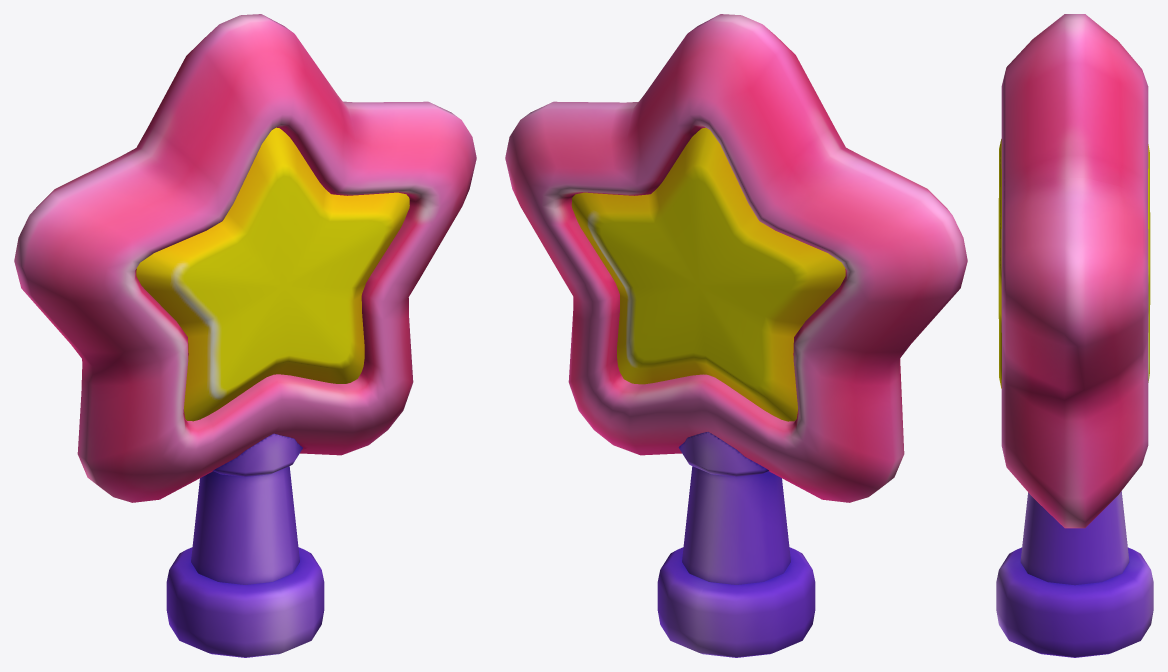
The model's file is Wand.fbx.
3 renders of one model, left to right at view 1: azimuth 30°, elevation 25°; view 2: azimuth 150°, elevation 25°; view 3: azimuth 270°, elevation 25°, orthographic.
Parts seen in each view (by area): view 1: Wand; view 2: Wand; view 3: Wand.
Boxes of the visible parts, box(x1,y1,x2,y2) form: Wand: box(14, 14, 476, 657); Wand: box(505, 14, 967, 657); Wand: box(996, 14, 1153, 657).
Bounding box in the file's own units: 98.1 × 127 × 29.63.
